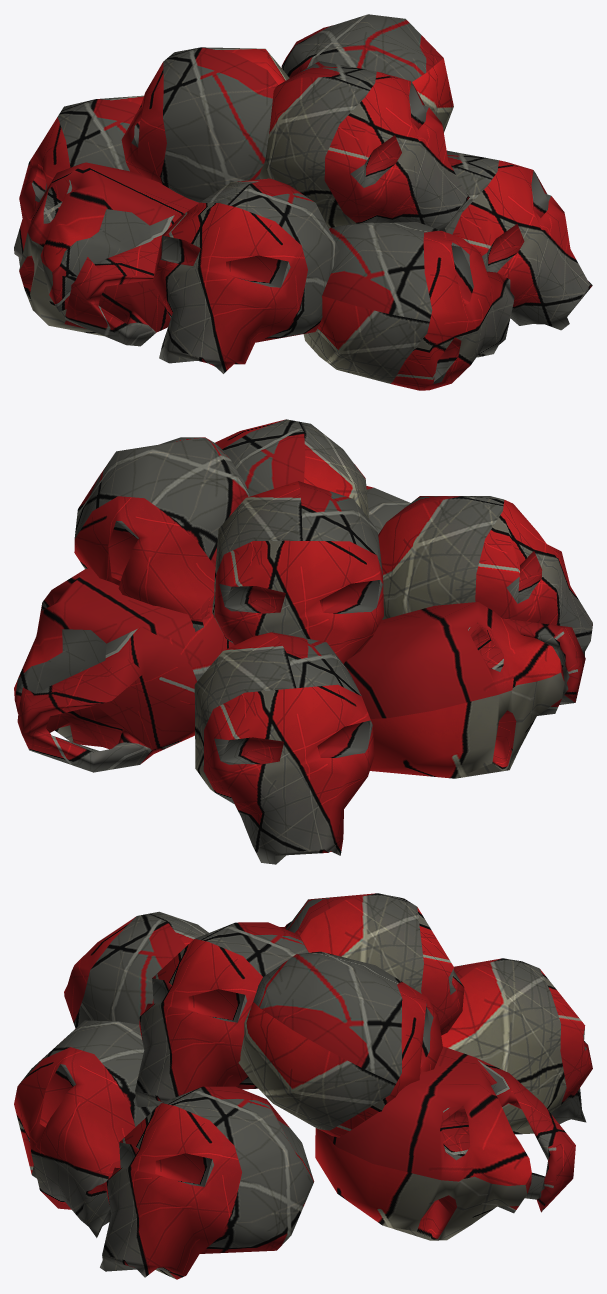
File: SkullPile.fbx
3 views of the same model, one above another, from view 1: azimuth 30°, elevation 25°; view 2: azimuth 150°, elevation 25°; view 3: azimuth 270°, elevation 25° (orthographic). The views are drawn at different scales.
Parts seen in each view (by area): view 1: polySurface65; view 2: polySurface65; view 3: polySurface65.
Part boxes in pixels (x1,y1,x2,y2): polySurface65: [14, 14, 592, 390]; polySurface65: [14, 419, 592, 864]; polySurface65: [14, 893, 592, 1279].
Bounding box in the file's own units: 1.42 × 0.7443 × 1.41.
